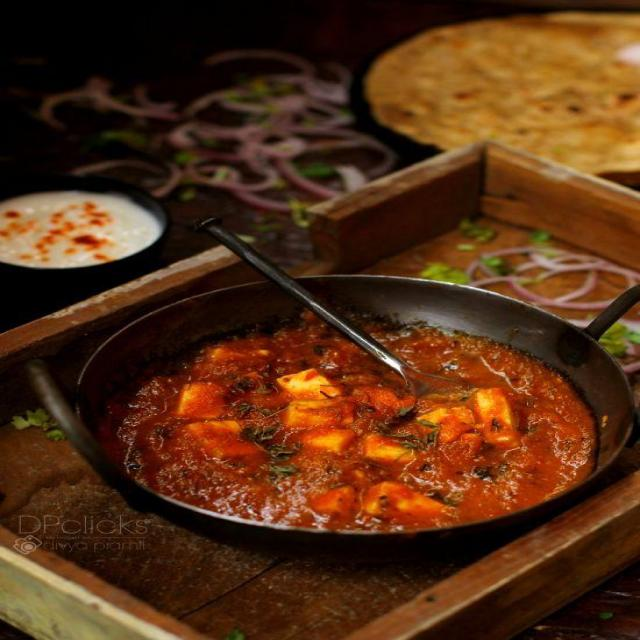roti: (401, 22, 640, 122)
